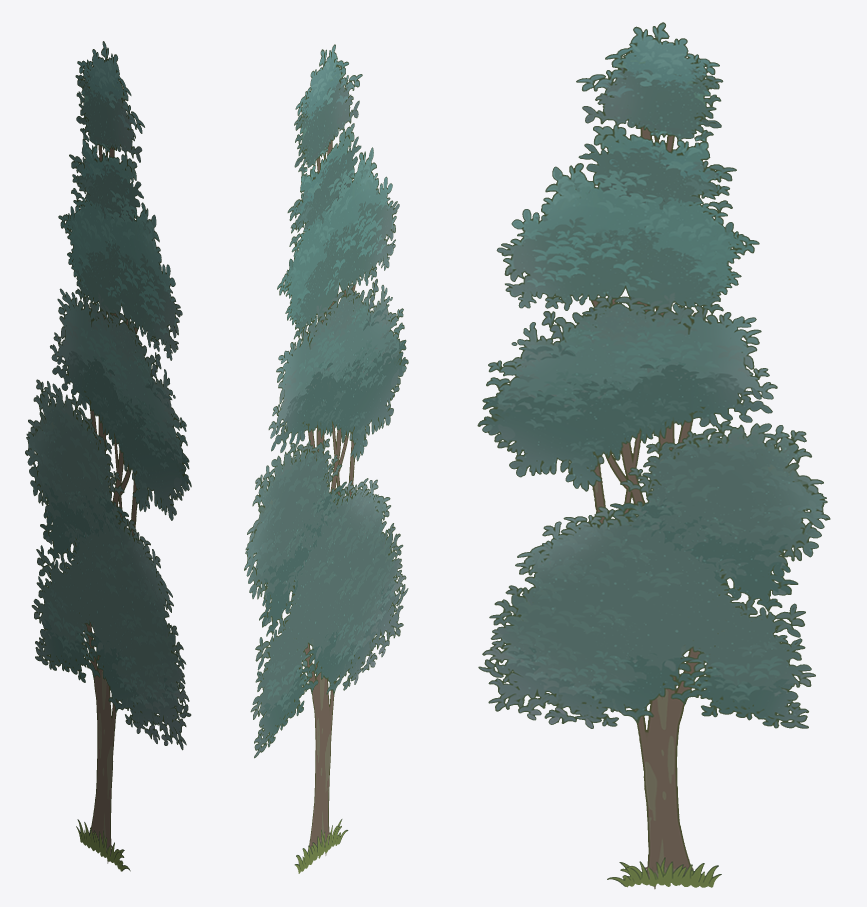
File: Mesh_Common_Tree_a.fbx
3 views of the same model, side by side, from view 1: azimuth 30°, elevation 25°; view 2: azimuth 150°, elevation 25°; view 3: azimuth 270°, elevation 25° (orthographic). The views are drawn at different scales.
Parts seen in each view (by area): view 1: Mesh_Common_Tree_a; view 2: Mesh_Common_Tree_a; view 3: Mesh_Common_Tree_a.
Part boxes in pixels (<box>): Mesh_Common_Tree_a: <box>25,41,191,871</box>; Mesh_Common_Tree_a: <box>244,44,408,873</box>; Mesh_Common_Tree_a: <box>477,22,830,889</box>.
Size of the model in its own units: 3e-14 by 100 by 41.53.
